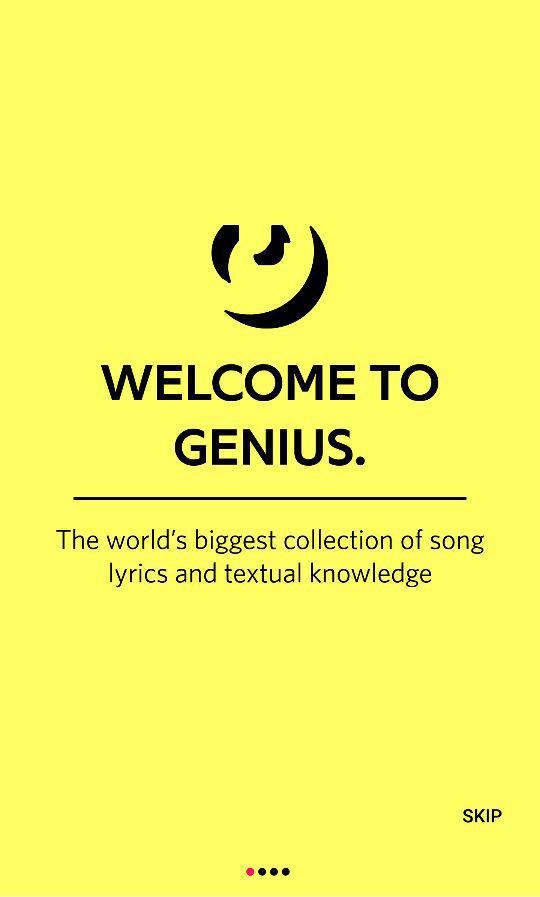Image: (210, 224, 330, 331)
PageIndicator: (245, 867, 292, 877)
Text: (100, 364, 440, 468), (56, 528, 486, 589), (459, 805, 504, 825)
